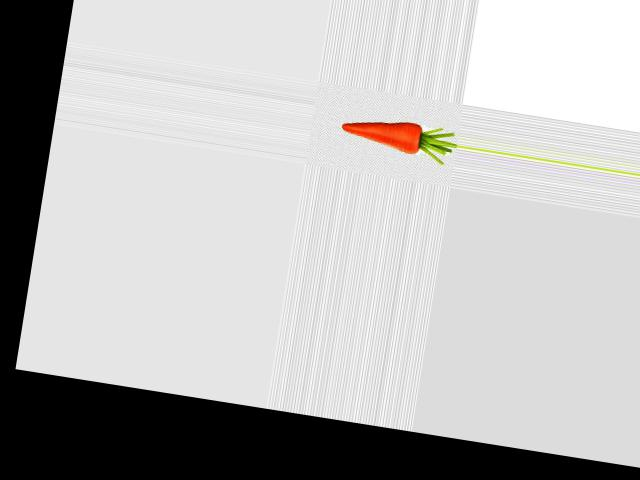carrot: (336, 109, 430, 160)
